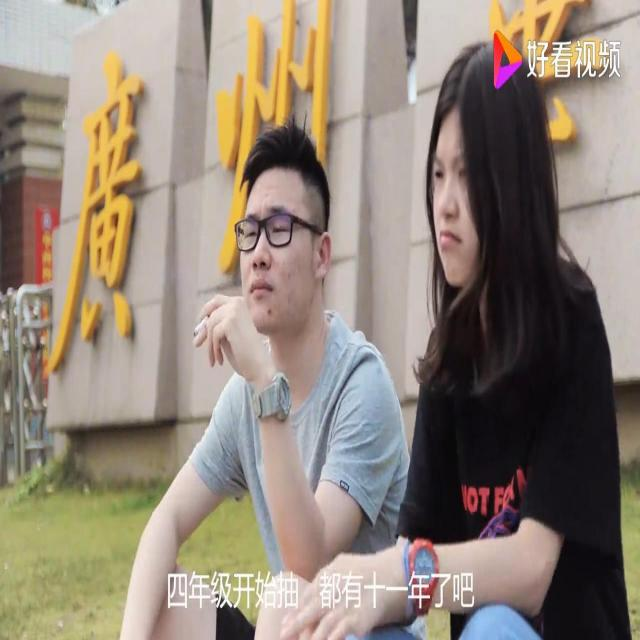smoke: (190, 301, 220, 344)
